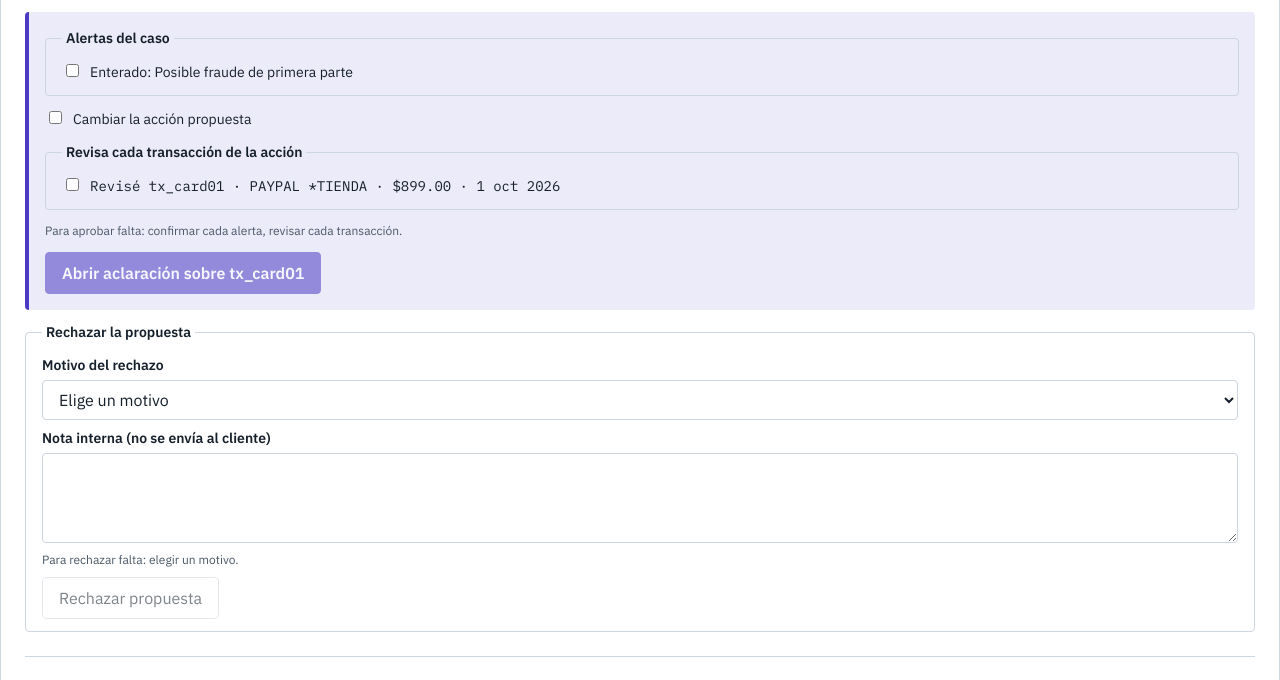
it: decision panel (02 G3) › names the checks a refused reply failed
(page scrolled)
expect the button "Rechazar propuesta" is shown: met, box left=42, top=577, right=219, bottom=619
Select "Tono inadecuado" in the dropdown labelled "Motivo del rechazo" at {"x": 640, "y": 400}, box left=42, top=380, right=1238, bottom=420
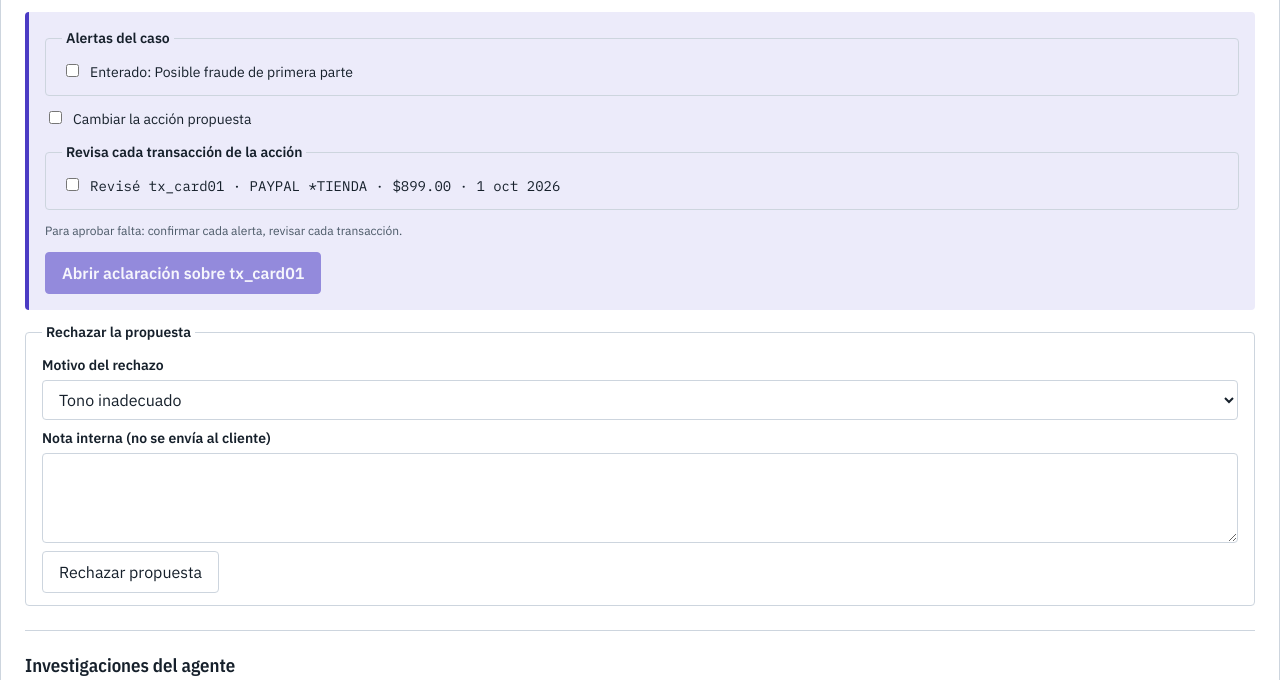
Click the button "Rechazar propuesta" at {"x": 131, "y": 572}, box left=42, top=551, right=219, bottom=593
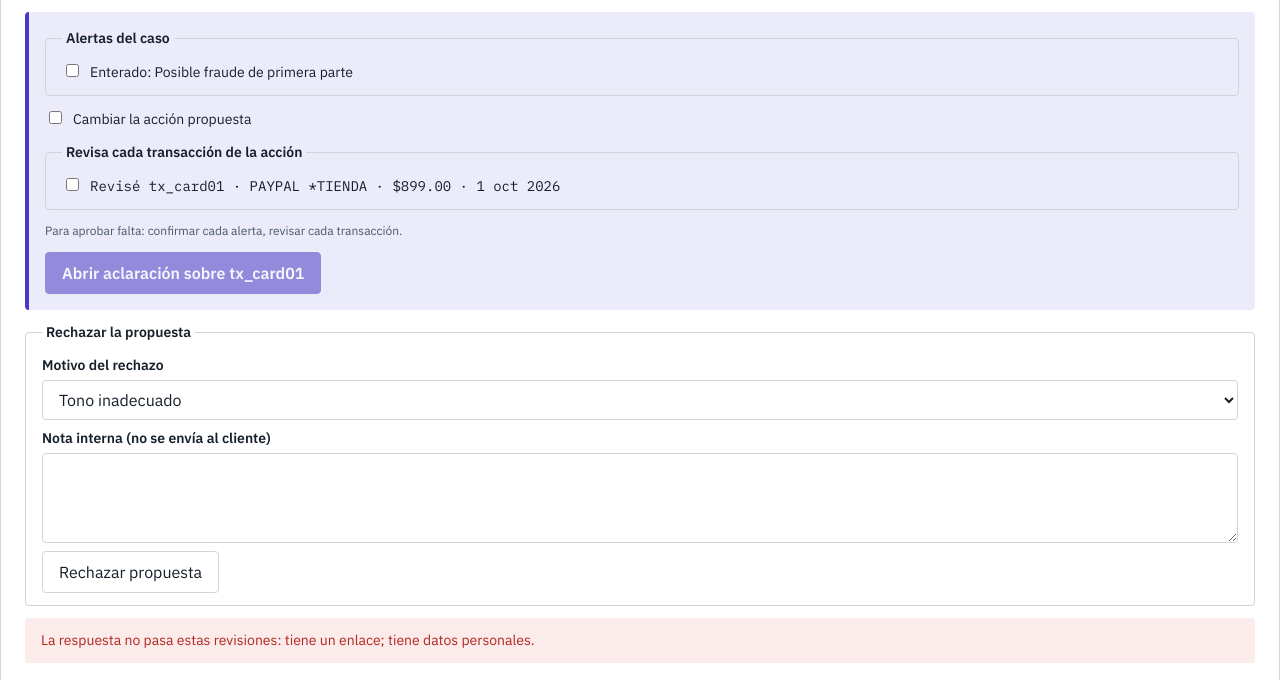
expect the message reads "La respuesta no pasa estas revisiones: tiene un enlace; tiene datos personales.": met, box left=41, top=631, right=534, bottom=649
